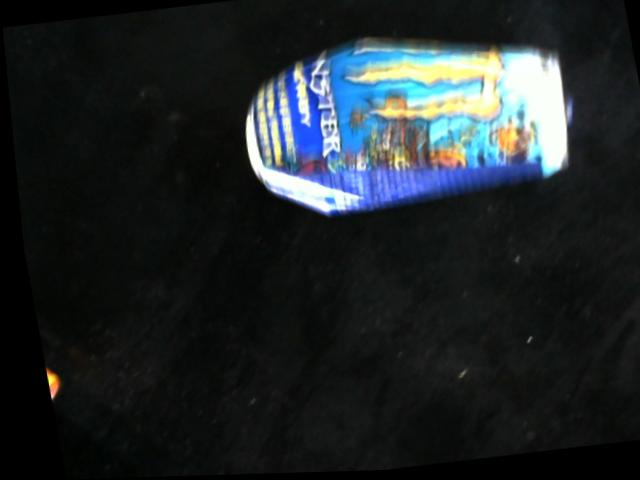can: (246, 34, 576, 223)
